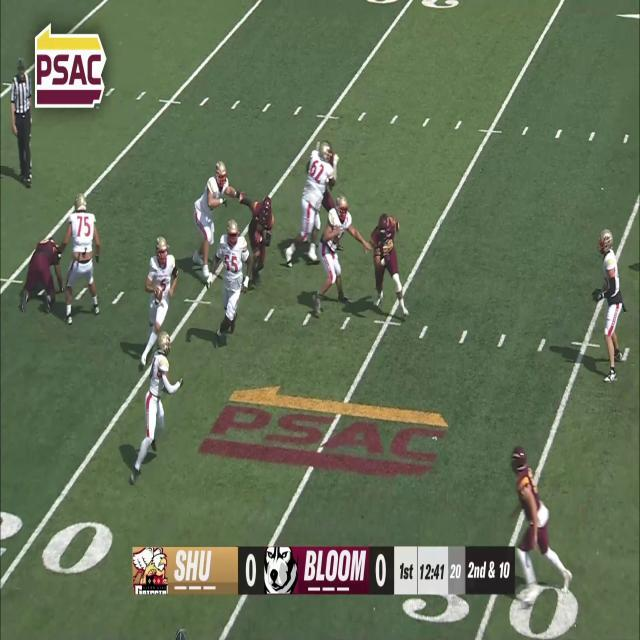football: (153, 280, 163, 305)
